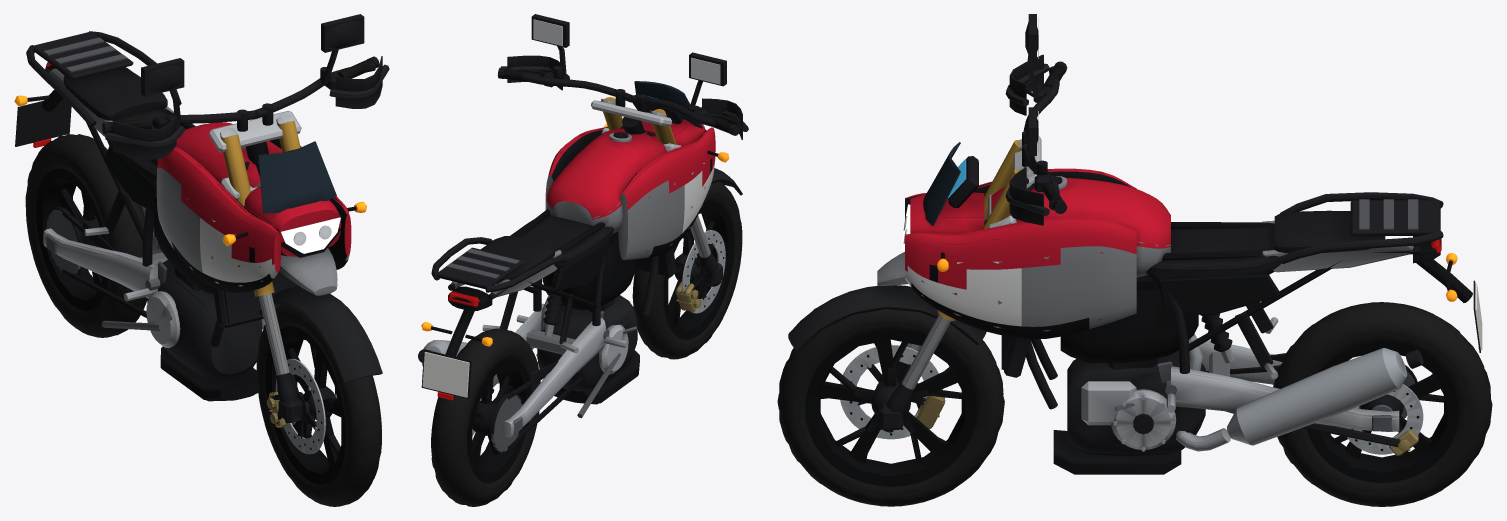
The model's file is bike05_g310gs.glb.
The picture shows the model from 3 angles, left to right: view 1: azimuth 30°, elevation 25°; view 2: azimuth 150°, elevation 25°; view 3: azimuth 270°, elevation 25°; orthographic projection. The views are drawn at different scales.
Parts seen in each view (by area): view 1: body (×2), wheel_rear (×2), wheel_front (×2), handlebar (×2), fork_left (×2), disc_front (×2), headlight, fork_right; view 2: body (×2), wheel_rear (×2), wheel_front (×2), handlebar (×2), fork_left, disc_front (×2); view 3: body (×2), wheel_front (×2), wheel_rear (×2), handlebar (×2), disc_front (×2), fork_right, disc_rear (×2), fork_left.
Part boxes in pixels (bbox=[...]): body (×2): bbox=[14, 31, 382, 401]; wheel_rear (×2): bbox=[25, 134, 147, 337]; wheel_front (×2): bbox=[256, 303, 381, 506]; handlebar (×2): bbox=[102, 14, 389, 159]; fork_left (×2): bbox=[220, 127, 303, 427]; disc_front (×2): bbox=[275, 358, 325, 454]; headlight: bbox=[275, 212, 342, 257]; fork_right: bbox=[276, 113, 336, 394]; body (×2): bbox=[418, 81, 742, 449]; wheel_rear (×2): bbox=[431, 328, 540, 506]; wheel_front (×2): bbox=[632, 181, 742, 359]; handlebar (×2): bbox=[497, 14, 748, 139]; fork_left: bbox=[650, 109, 722, 312]; disc_front (×2): bbox=[682, 230, 725, 313]; body (×2): bbox=[788, 136, 1482, 474]; wheel_front (×2): bbox=[777, 309, 1004, 506]; wheel_rear (×2): bbox=[1273, 302, 1492, 506]; handlebar (×2): bbox=[1005, 14, 1067, 225]; disc_front (×2): bbox=[840, 344, 942, 439]; fork_right: bbox=[877, 166, 1031, 432]; disc_rear (×2): bbox=[1342, 384, 1423, 454]; fork_left: bbox=[882, 139, 1021, 429].
Bounding box in the file's own units: 1.01 × 1.38 × 2.07.
